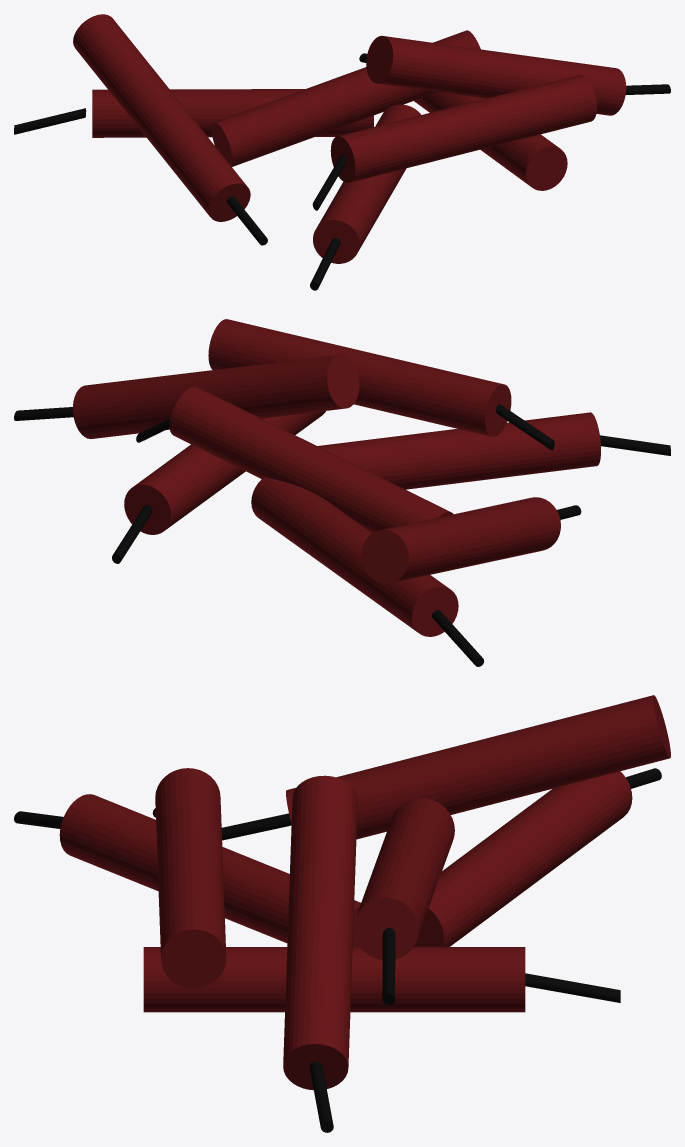
Rendered from (West)DynamitePileWIP.fbx.
3 renders of one model, top to bottom at view 1: azimuth 30°, elevation 25°; view 2: azimuth 150°, elevation 25°; view 3: azimuth 270°, elevation 25°, orthographic. The views are drawn at different scales.
Visible parts, largest first — view 1: DynamitePile; view 2: DynamitePile; view 3: DynamitePile.
Part boxes in pixels (box(x1,y1,x2,y2)): DynamitePile: box(14, 14, 670, 290); DynamitePile: box(14, 319, 670, 666); DynamitePile: box(14, 695, 670, 1132).
Size of the model in its own units: 104 by 25.39 by 81.33.
